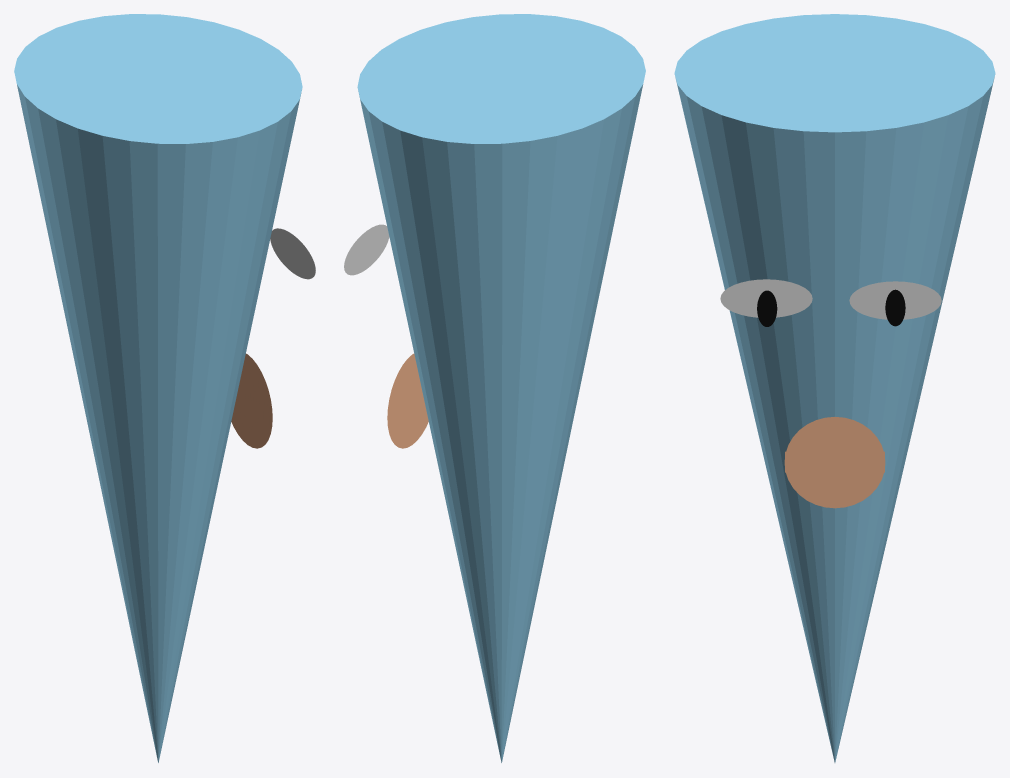
The model's file is turara_2.fbx.
3 renders of one model, left to right at view 1: azimuth 30°, elevation 25°; view 2: azimuth 150°, elevation 25°; view 3: azimuth 270°, elevation 25°, orthographic.
Visible parts, largest first — view 1: turara, kuti, me.001, kuti2; view 2: turara, kuti, me.002, kuti2; view 3: turara, kuti, me.001, me.002, me, me.003.
Boxes of the visible parts, <box> form: turara: <box>14,14,302,762</box>; kuti: <box>231,353,272,448</box>; me.001: <box>270,228,315,279</box>; kuti2: <box>235,384,271,427</box>; turara: <box>357,14,645,762</box>; kuti: <box>387,353,428,448</box>; me.002: <box>344,224,389,275</box>; kuti2: <box>388,384,424,427</box>; turara: <box>674,14,995,762</box>; kuti: <box>784,417,885,508</box>; me.001: <box>720,279,812,317</box>; me.002: <box>849,281,941,319</box>; me: <box>885,289,905,326</box>; me.003: <box>757,290,777,326</box>.
Size of the model in its own units: 159 by 139 by 377.
